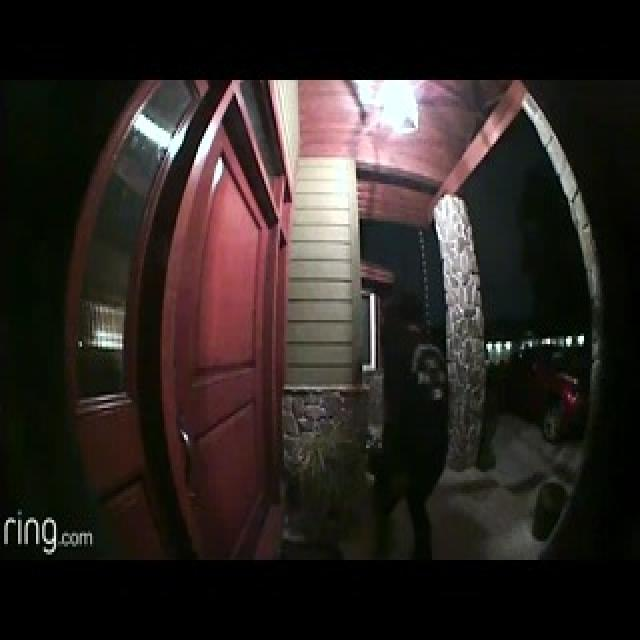thief: (342, 233, 470, 502)
